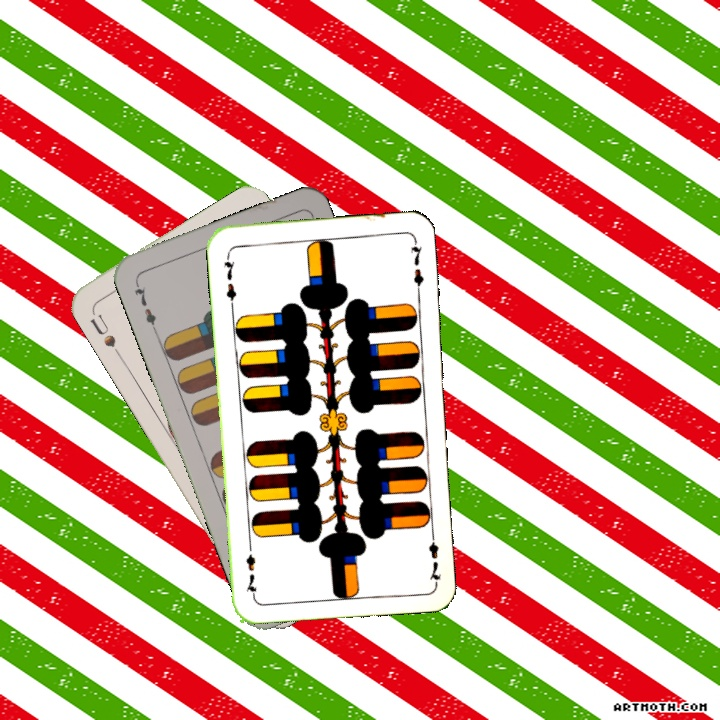E7: (130, 277, 159, 334), (424, 526, 444, 585), (220, 249, 239, 309)
SU: (86, 306, 123, 360)
